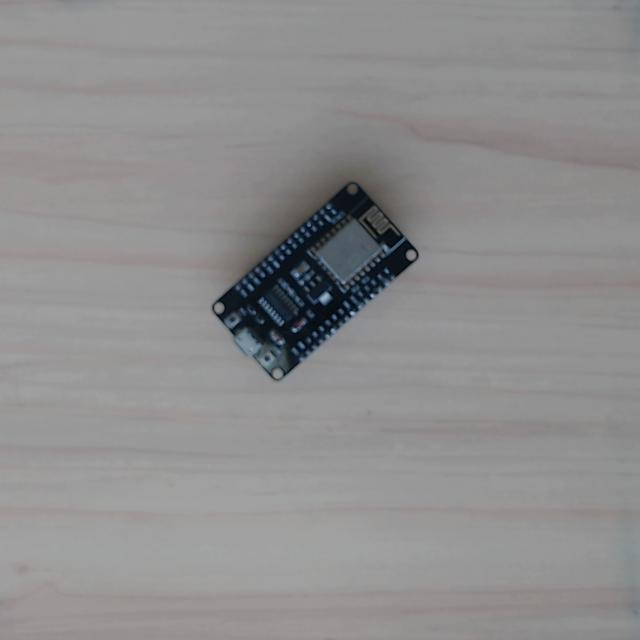ESP8266-NodeMCU: (206, 178, 422, 387)
